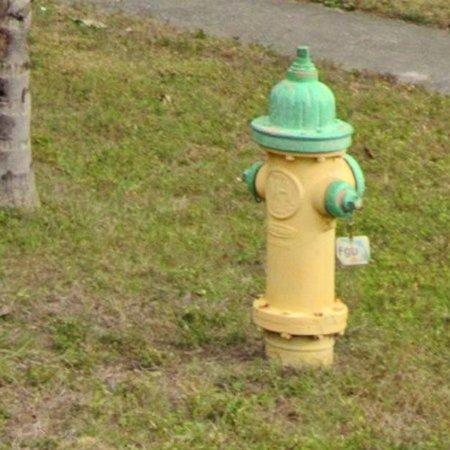a fire hydrant: (244, 46, 366, 368)
